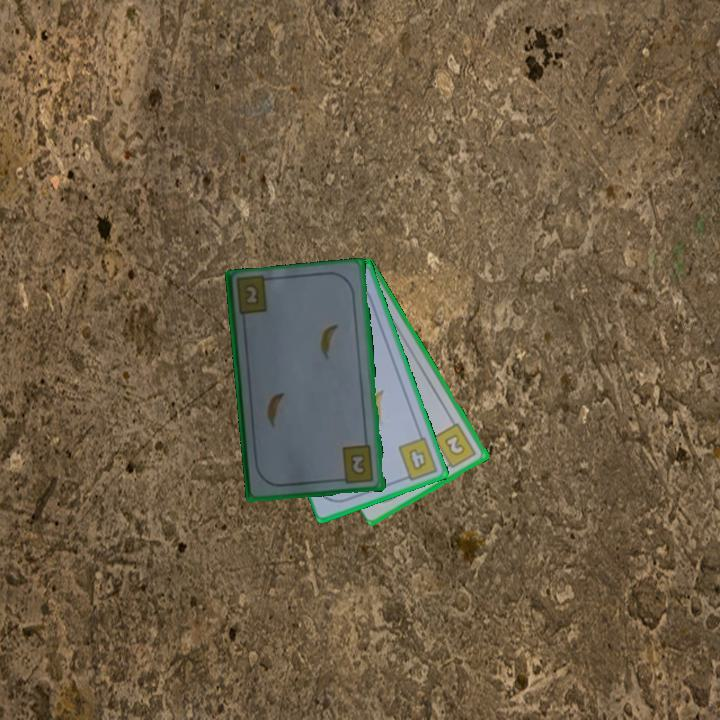2b: (430, 420, 479, 472), (335, 442, 377, 486), (241, 283, 262, 308)
4b: (395, 434, 441, 484)
